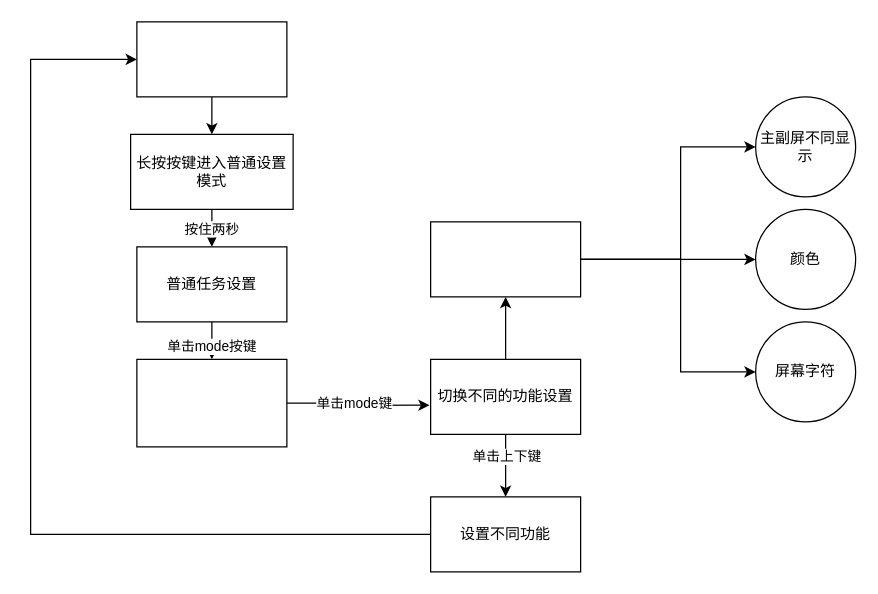
Image size: 878x594. Some labels were removed from this diagram. The shapes that lost their labels are listed below. From the top down, each one's centre as x and y in pixels, then its label:
At pixel 211 59: "RUN模式".
At pixel 505 259: "根据正在设置的功能输出不同的显示".
At pixel 211 402: "进入不同模式设置页".
